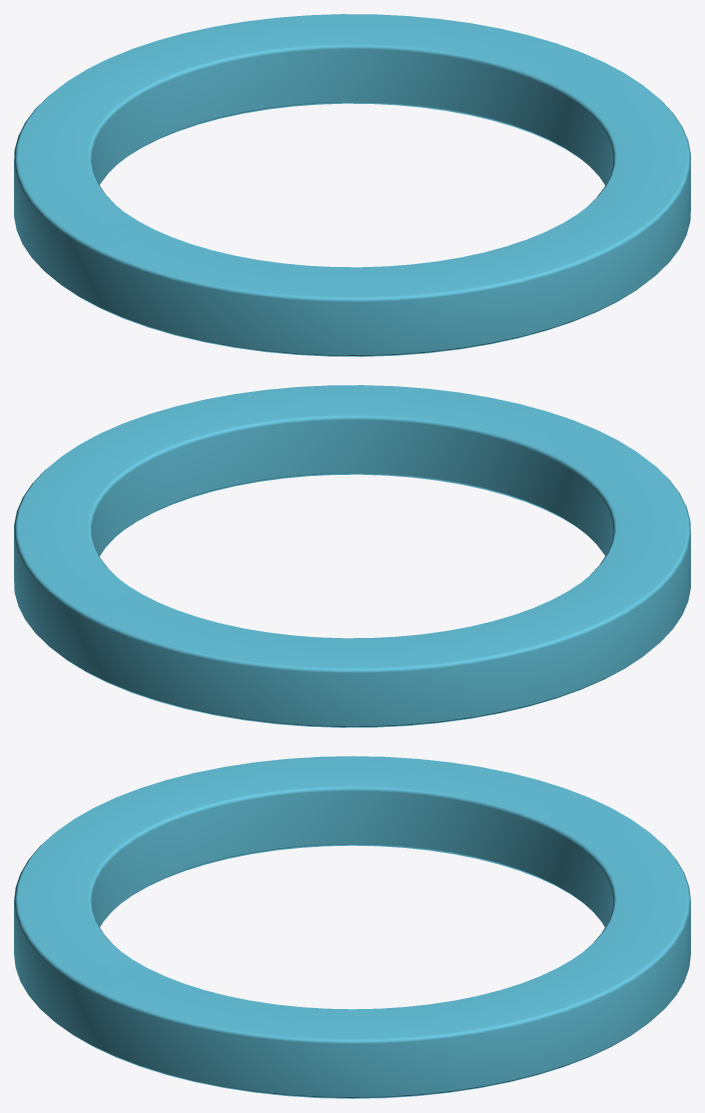
The picture shows the model from 3 angles, top to bottom: view 1: azimuth 30°, elevation 25°; view 2: azimuth 150°, elevation 25°; view 3: azimuth 270°, elevation 25°; orthographic projection.
Visible parts, largest first — view 1: seal_body; view 2: seal_body; view 3: seal_body.
Boxes of the visible parts, box(x1,y1,x2,y2) form: seal_body: box(14, 14, 690, 356); seal_body: box(14, 385, 690, 727); seal_body: box(14, 756, 690, 1098).
Bounding box in the file's own units: 0.065 × 0.00635 × 0.065.
